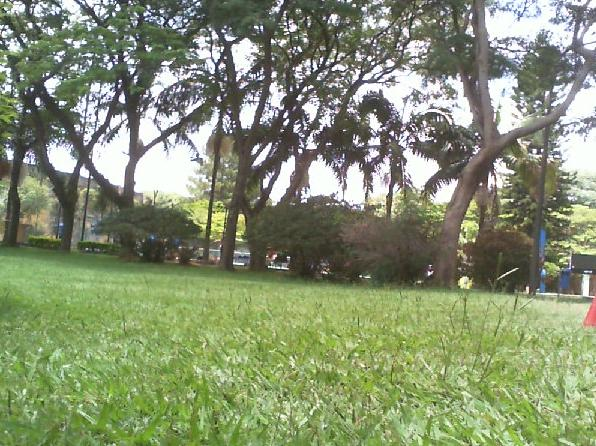0 cone: (583, 271, 596, 329)
